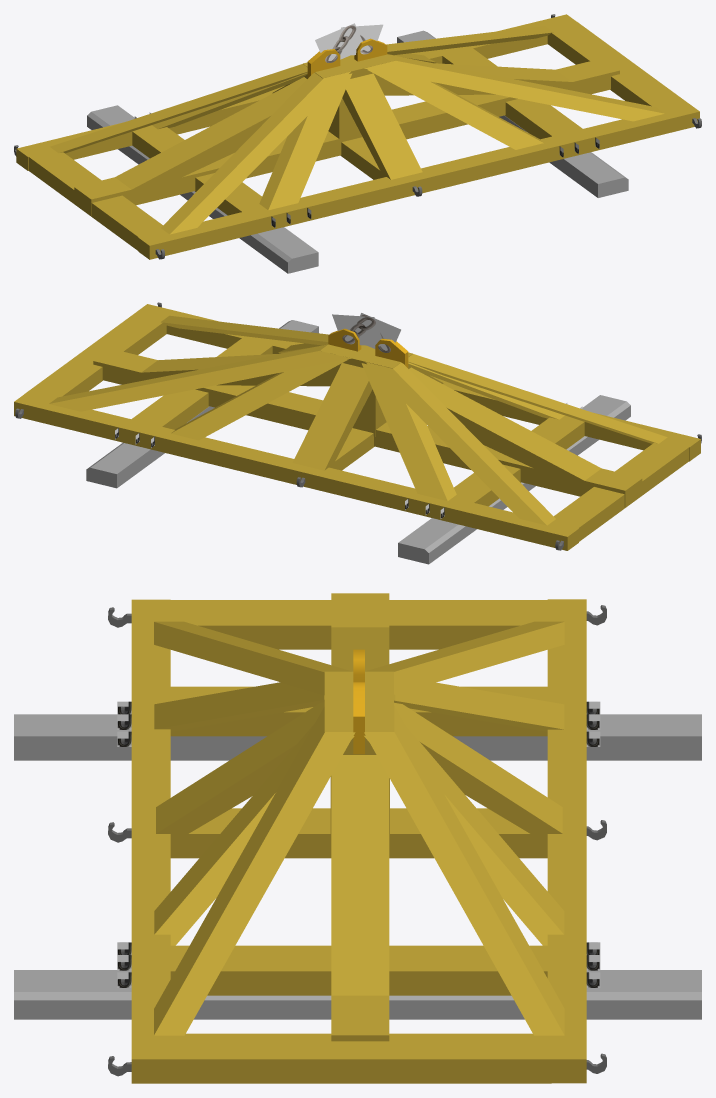
The model's file is Arania.fbx.
The picture shows the model from 3 angles, top to bottom: view 1: azimuth 30°, elevation 25°; view 2: azimuth 150°, elevation 25°; view 3: azimuth 270°, elevation 25°; orthographic projection. The views are drawn at different scales.
Visible parts, largest first — view 1: VigaArania, Vigas8, Vigas1, Vigas, Vigas2, Vigas6, Base, Vigas5, Base1, Vigas3, Chains1, Vigas9 (+4 smaller); view 2: VigaArania, Vigas8, Vigas, Vigas1, Vigas2, Vigas6, Base, Vigas5, Base1, Vigas3, Chains, Vigas9 (+4 smaller); view 3: VigaArania, Vigas8, Vigas6, Base1, Vigas1, Vigas, Base, Vigas2, Vigas5, Vigas4, Vigas3, Vigas9 (+1 smaller).
Part boxes in pixels (x1,y1,x2,y2): VigaArania: (50,26,664,234); Vigas8: (74,58,619,216); Vigas1: (138,103,699,259); Vigas: (16,14,576,170); Vigas2: (27,149,164,250); Vigas6: (547,22,688,110); Base: (87,105,318,273); Vigas5: (442,48,583,139); Base1: (397,30,628,197); Vigas3: (132,126,264,215); Chains1: (315,23,365,62); Vigas9: (303,54,394,85); VigaArania: (49,315,667,525); Vigas8: (93,348,642,507); Vigas: (14,393,578,550); Vigas1: (136,304,700,461); Vigas2: (552,441,688,541); Vigas6: (25,312,166,400); Base: (398,395,630,564); Vigas5: (131,338,272,429); Base1: (86,320,318,488); Vigas3: (453,416,584,506); Chains: (332,314,384,346); Vigas9: (320,344,412,375); VigaArania: (154,621,564,1035); Vigas8: (331,593,389,1041); Vigas6: (170,1033,551,1083); Base1: (14,970,701,1019); Vigas1: (131,599,170,1083); Vigas: (547,599,586,1083); Base: (14,714,701,760); Vigas2: (168,600,552,649); Vigas5: (165,945,550,995); Vigas4: (170,808,547,858); Vigas3: (165,686,550,736); Vigas9: (324,671,393,754).
Size of the model in its own units: 907 by 214 by 573.
6 materials, 3 textured.
